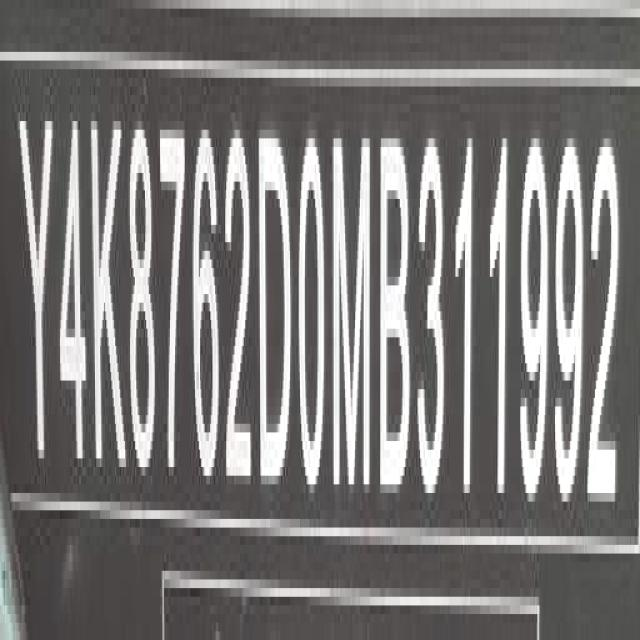0: (297, 144, 326, 506)
1: (454, 128, 480, 509), (488, 125, 511, 512)
2: (587, 125, 619, 512), (224, 134, 253, 503)
3: (416, 128, 448, 500)
4: (60, 125, 88, 480)
6: (190, 125, 222, 503)
7: (158, 116, 188, 497)
8: (127, 115, 158, 471)
9: (517, 134, 551, 519), (553, 134, 582, 516)
B: (378, 106, 412, 503)
D: (257, 109, 293, 509)
K: (91, 112, 128, 468)
M: (332, 118, 374, 500)
Y: (19, 102, 52, 480)
